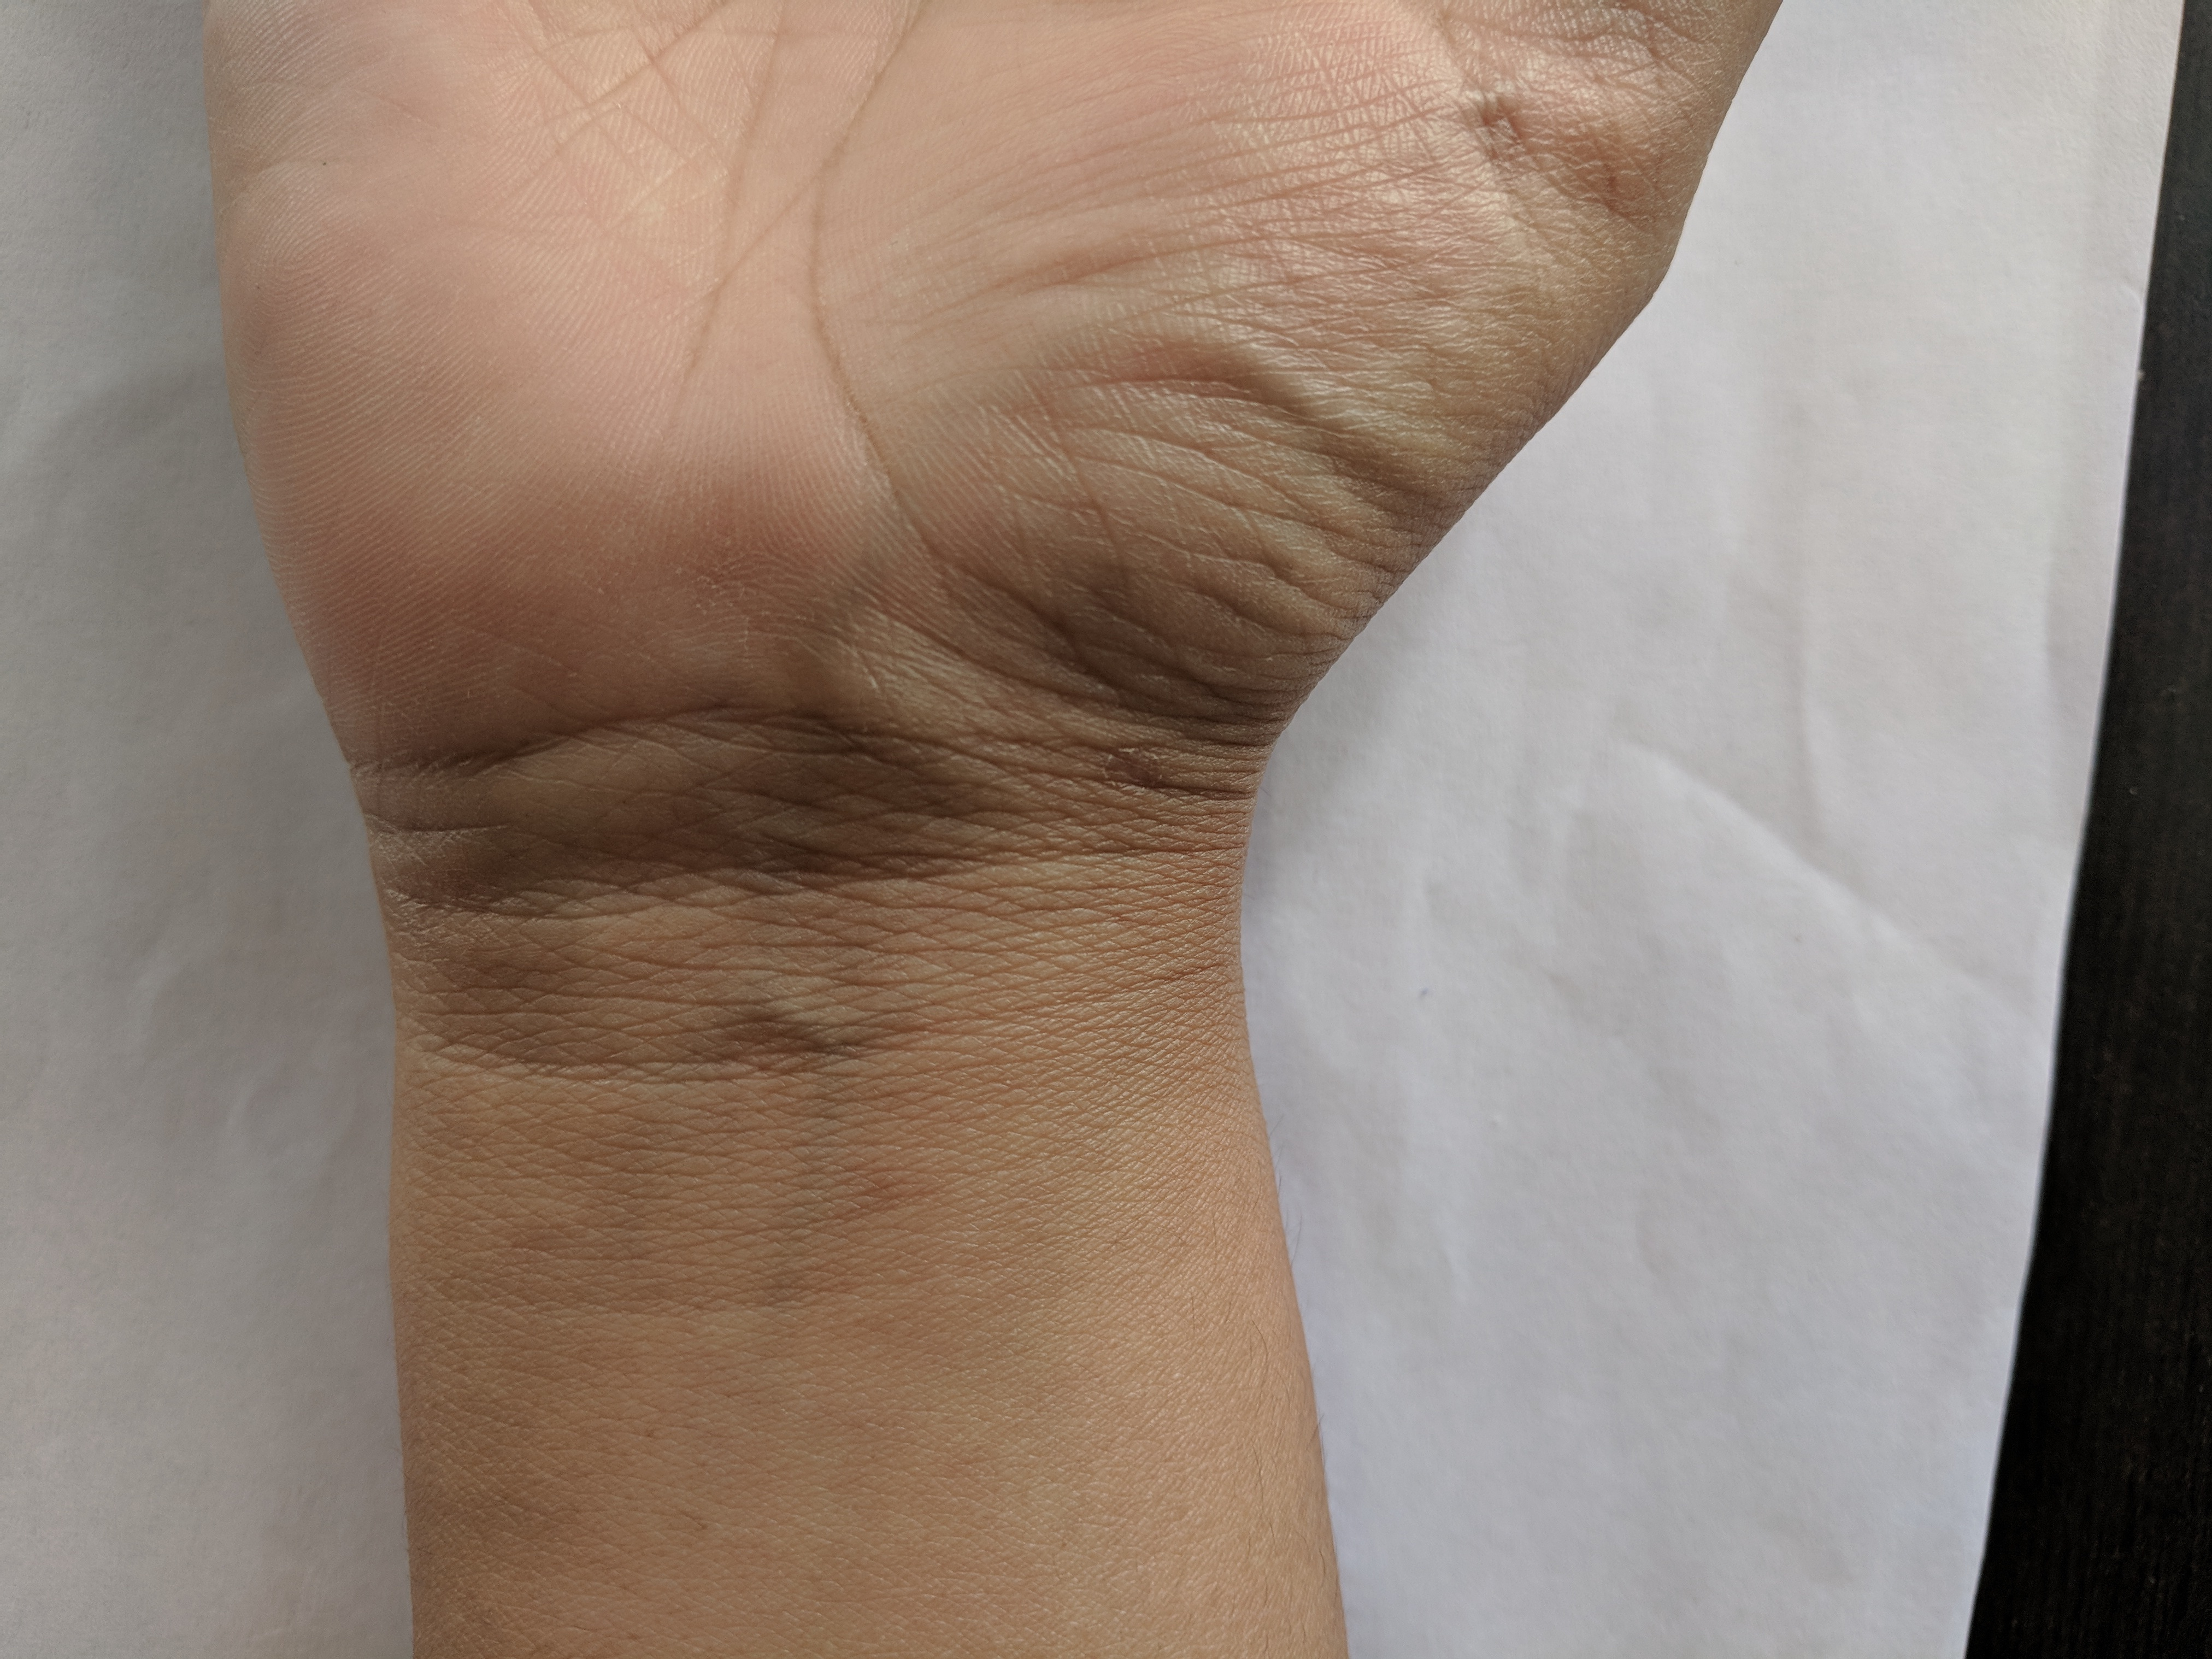righthandwrist: (324, 690, 1317, 1121)
